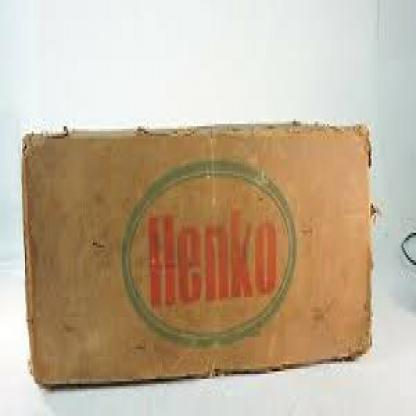CARDBOARD: (20, 119, 372, 389)
